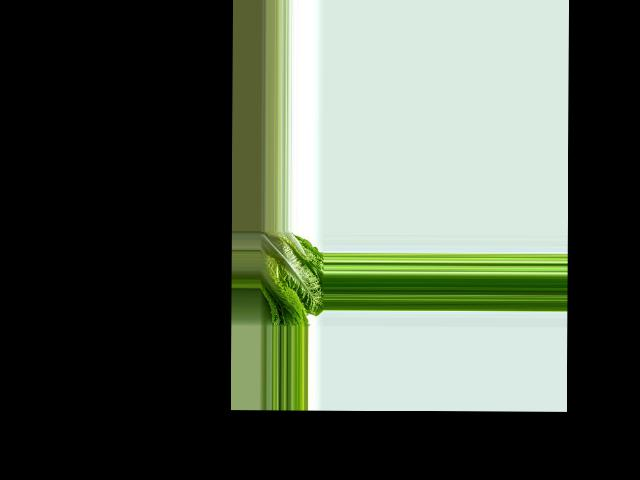lettuce: (260, 231, 323, 327)
